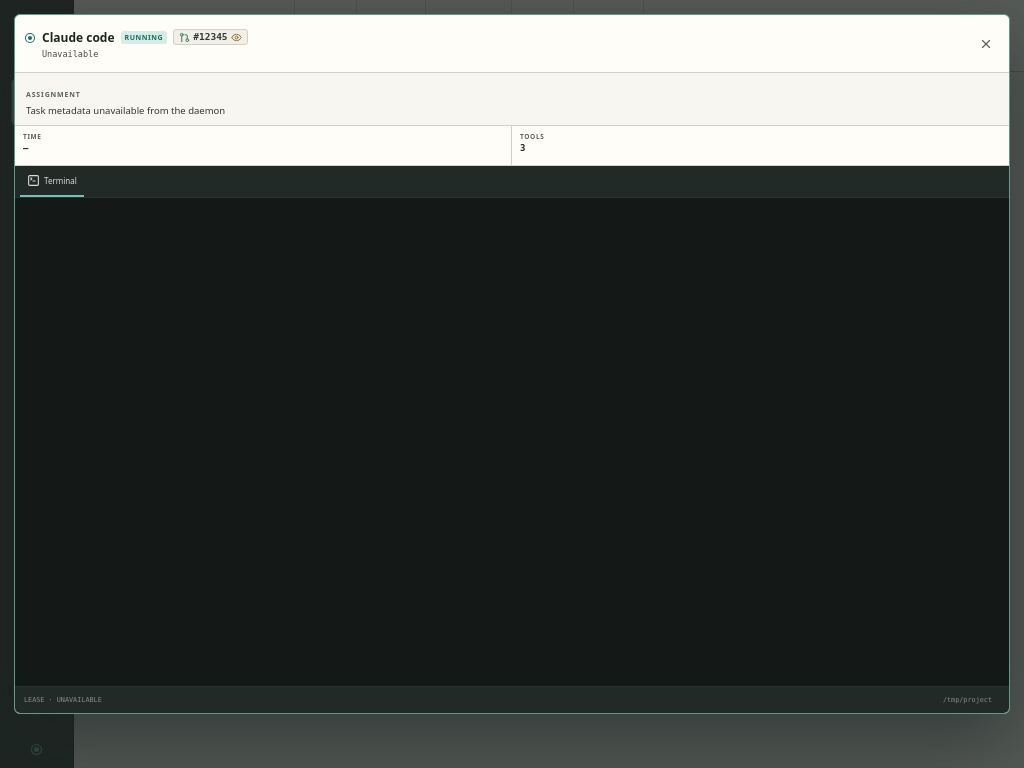
PRD #1401 — the in-app pull request browser › keeps the PR open and shows a failed system-browser handoff
Click the button with test id "pr-badge-7": (210, 37) 173,29 -> 248,45
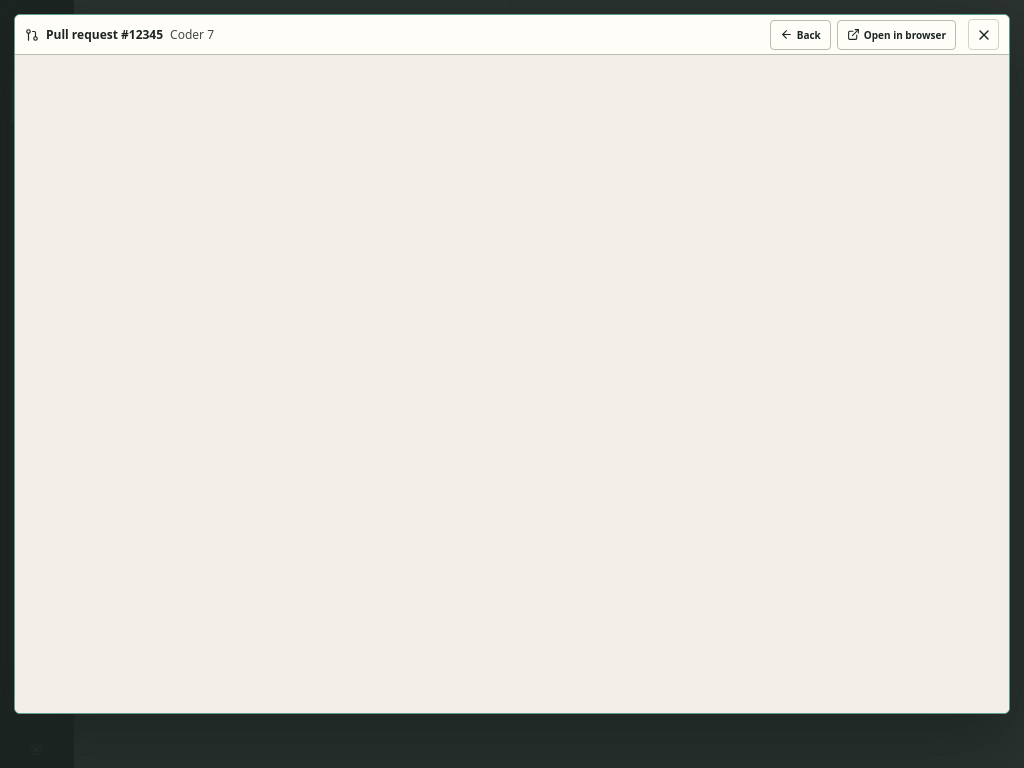
Click the button "Open in browser": (896, 34) 837,20 -> 956,50
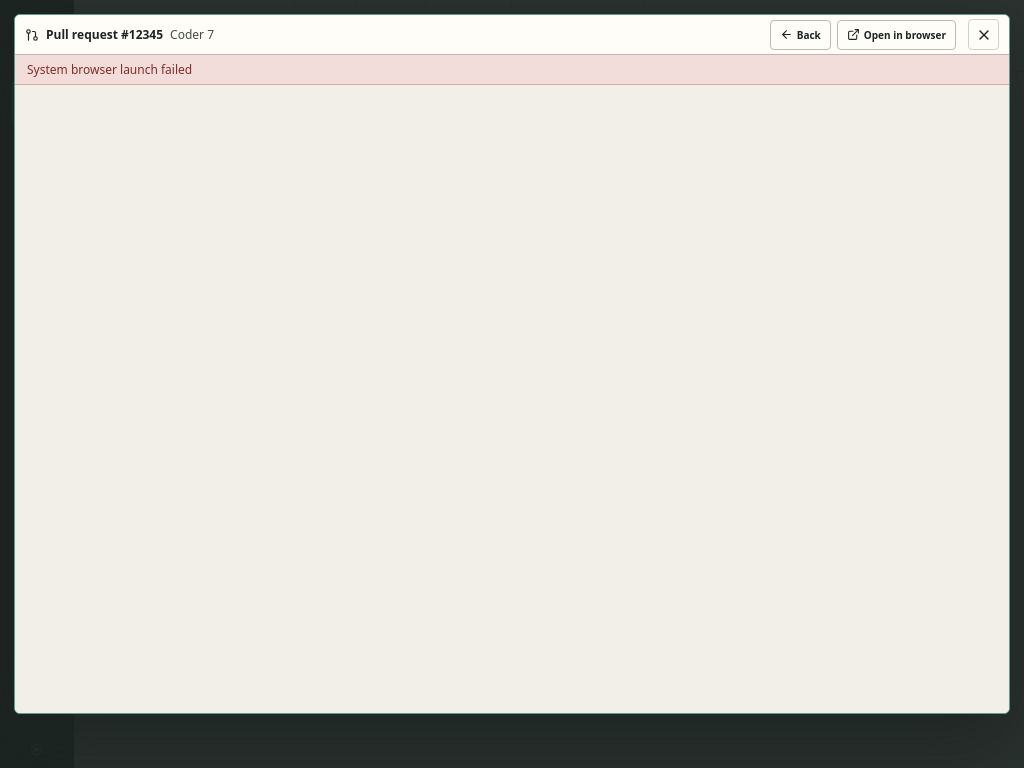
Expected: the dialog with test id "pr-browser" is shown
Expected: the message reads "System browser launch failed", 27,61 -> 192,78
